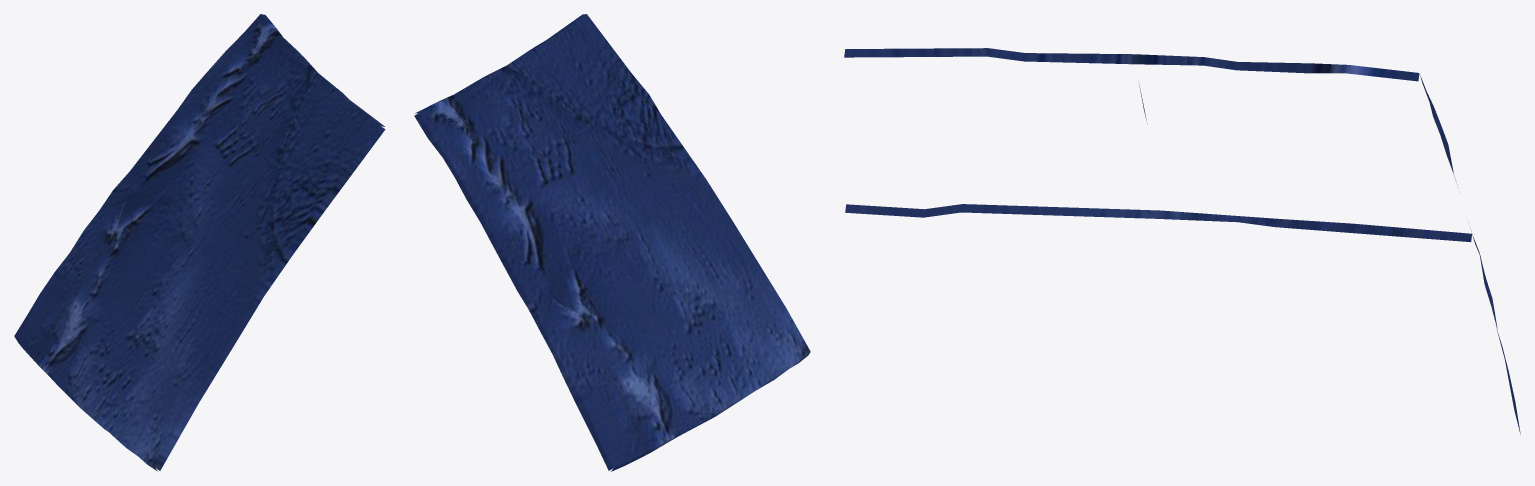
The picture shows the model from 3 angles, left to right: view 1: azimuth 30°, elevation 25°; view 2: azimuth 150°, elevation 25°; view 3: azimuth 270°, elevation 25°; orthographic projection. The views are drawn at different scales.
Bounding box in the file's own units: 901687 × 986654 × 1049638.
1 material, 1 textured.
